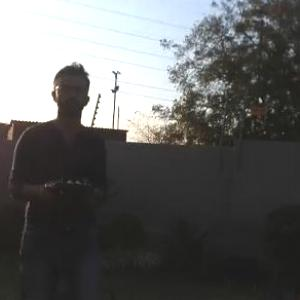follow: (3, 54, 116, 299)
